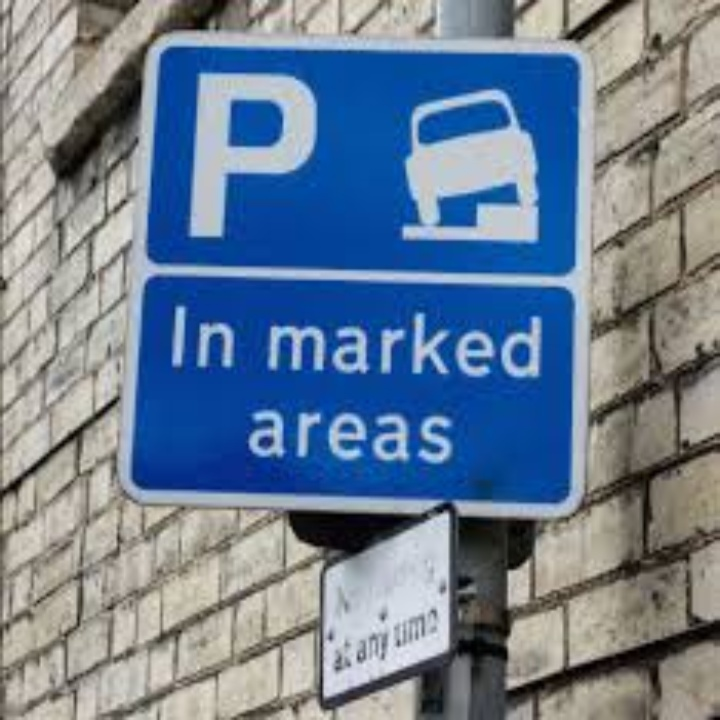parking: (180, 60, 323, 247)
